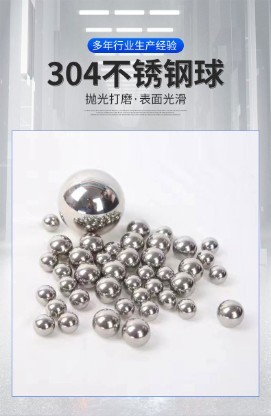ironball: (56, 168, 124, 235), (121, 316, 150, 347), (91, 307, 120, 337), (216, 298, 244, 327), (94, 275, 121, 303), (73, 261, 100, 289), (169, 271, 195, 297), (177, 256, 203, 281), (115, 245, 140, 271), (172, 235, 197, 259), (140, 245, 165, 269), (119, 230, 144, 253), (47, 233, 72, 256), (67, 245, 93, 267), (145, 232, 170, 254), (100, 259, 125, 281), (32, 313, 54, 336), (79, 231, 103, 252), (57, 310, 78, 333), (126, 217, 149, 238), (68, 287, 89, 309), (35, 284, 56, 305), (113, 297, 134, 318), (176, 297, 196, 319), (44, 298, 66, 318), (138, 299, 158, 321), (157, 288, 176, 309), (38, 251, 57, 272), (58, 275, 77, 296), (208, 264, 227, 284), (195, 249, 214, 269), (130, 286, 150, 305), (122, 273, 141, 293), (52, 261, 72, 280), (144, 277, 163, 296), (155, 265, 174, 284), (102, 240, 121, 258), (41, 213, 59, 231), (135, 264, 155, 280), (200, 236, 218, 253), (94, 250, 112, 267), (155, 225, 172, 240)
